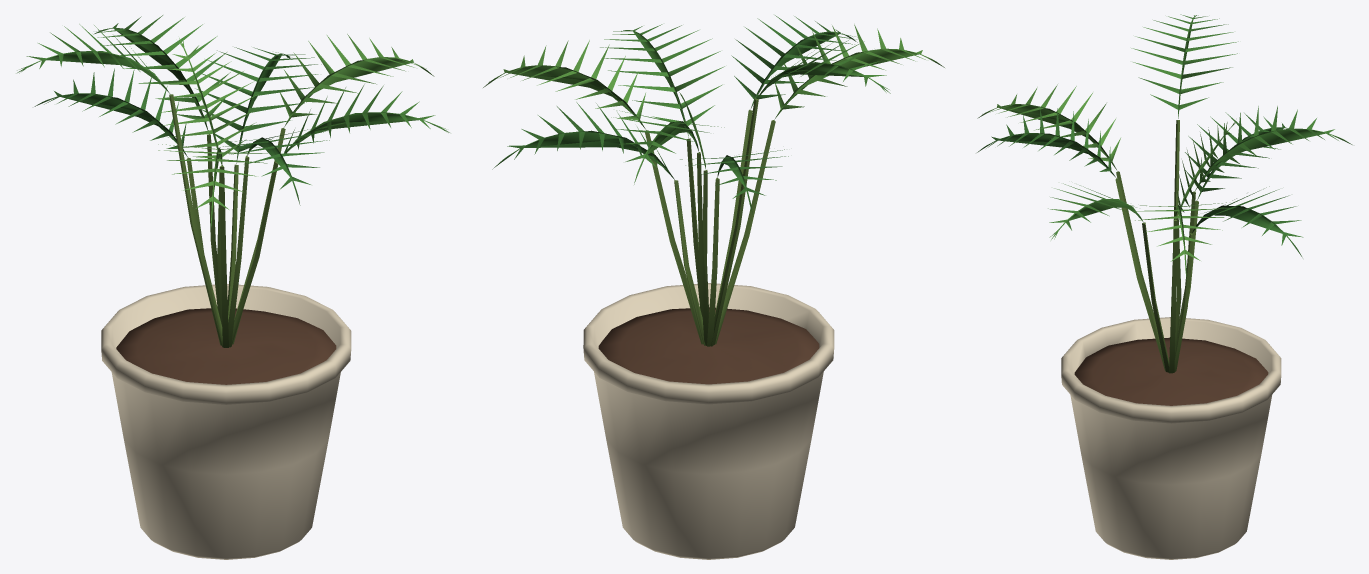
Rendered from palm.glb.
The picture shows the model from 3 angles, left to right: view 1: azimuth 30°, elevation 25°; view 2: azimuth 150°, elevation 25°; view 3: azimuth 270°, elevation 25°; orthographic projection. The views are drawn at different scales.
Visible parts, largest first — view 1: palm; view 2: palm; view 3: palm.
Boxes of the visible parts, x1=… form: palm: x1=16, y1=15, x2=449, y2=559; palm: x1=483, y1=15, x2=944, y2=559; palm: x1=977, y1=14, x2=1352, y2=559.
Size of the model in its own units: 0.77 by 0.893 by 0.693.
